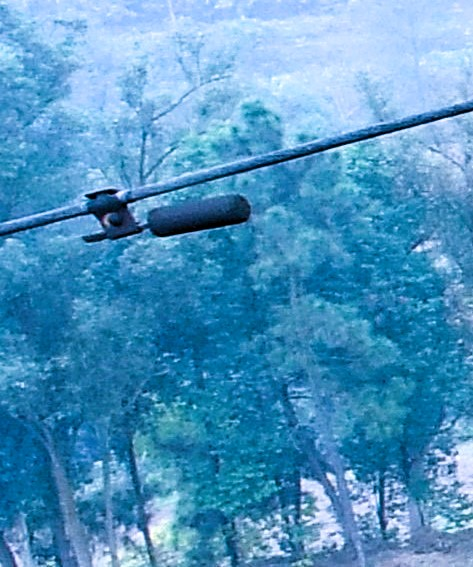Damage of shockproof hammer: (69, 151, 264, 264)
